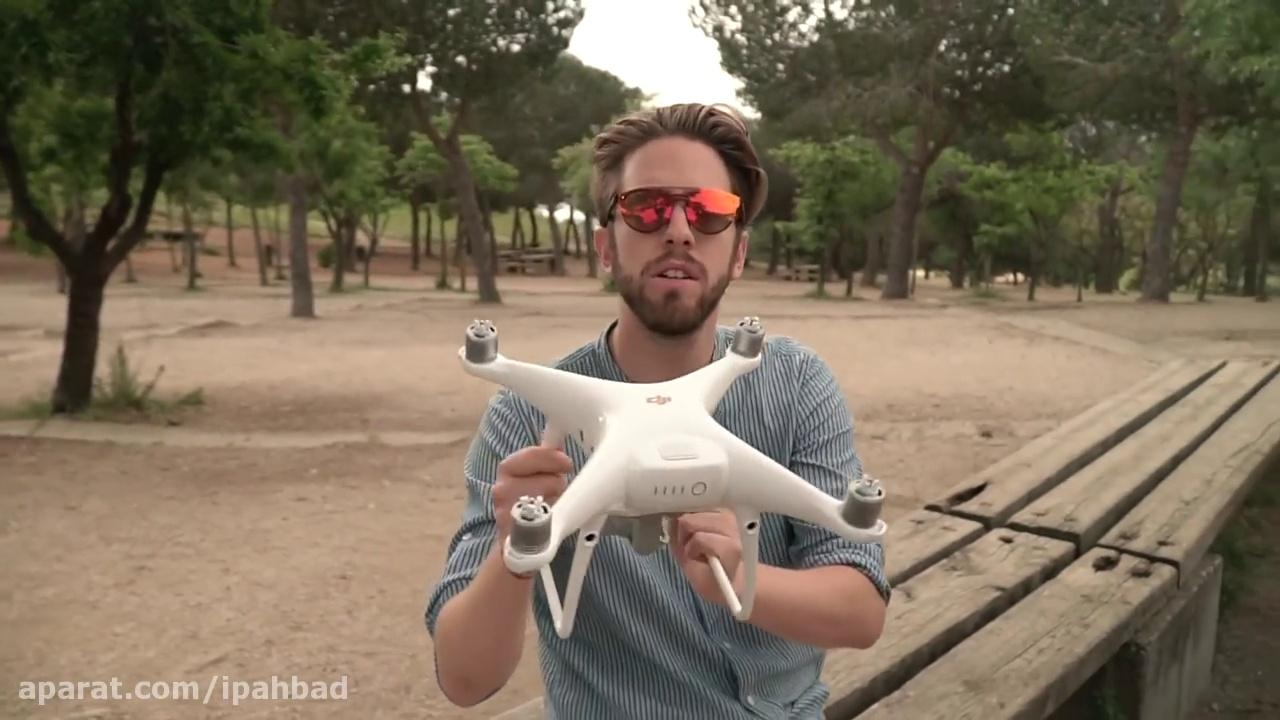drone: (456, 314, 890, 640)
